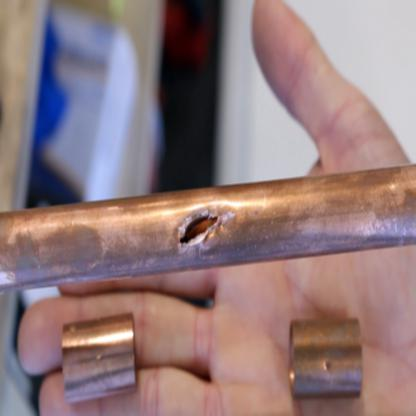burst: (177, 206, 223, 254)
